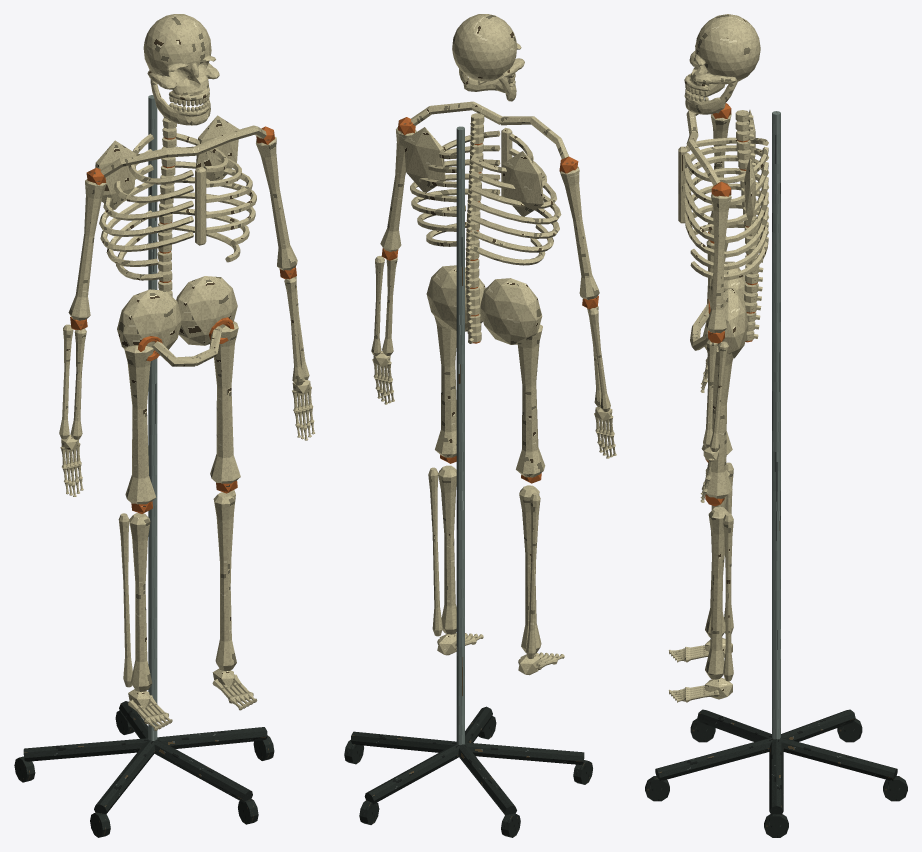
Rendered from skeleton.glb.
3 renders of one model, left to right at view 1: azimuth 30°, elevation 25°; view 2: azimuth 150°, elevation 25°; view 3: azimuth 270°, elevation 25°, orthographic. The views are drawn at different scales.
Parts seen in each view (by area): view 1: skeleton; view 2: skeleton; view 3: skeleton.
Boxes of the visible parts, x1,y1,x2,y2 form: skeleton: [14, 14, 315, 837]; skeleton: [344, 14, 616, 837]; skeleton: [645, 14, 907, 837].
Bounding box in the file's own units: 0.5641 × 1.69 × 0.5255.
4 materials, 4 textured.
